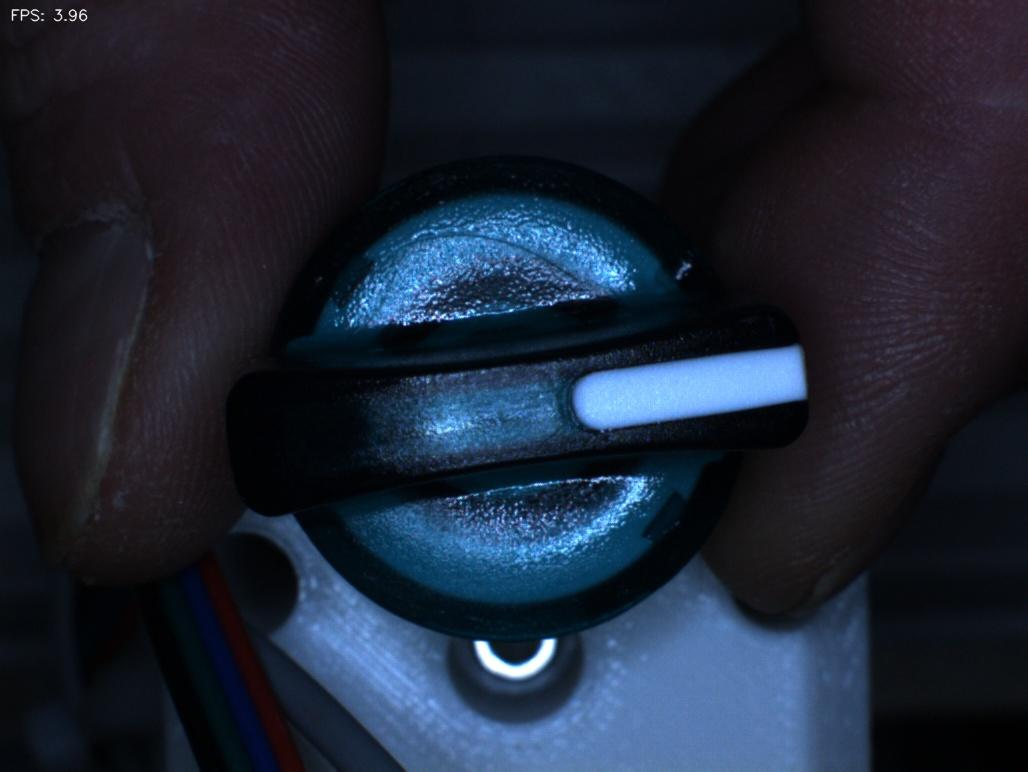Choc: (634, 217, 718, 304)
